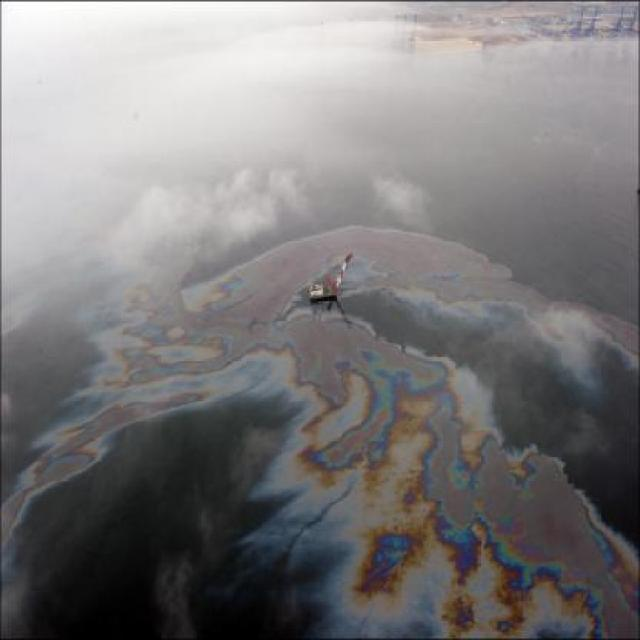truecolor: (2, 226, 562, 567), (266, 311, 640, 639)
